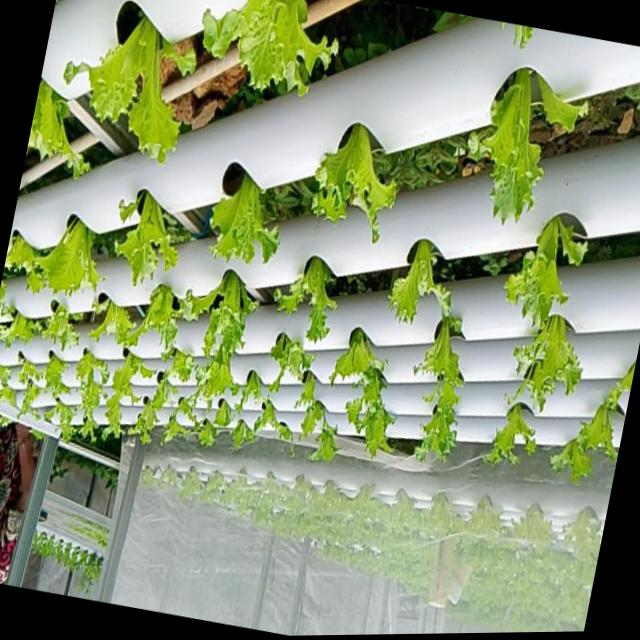Baby: (61, 19, 193, 165), (200, 0, 335, 96), (466, 67, 539, 222), (309, 122, 395, 242), (502, 213, 583, 325), (413, 306, 462, 458), (207, 162, 277, 262), (509, 312, 578, 409), (112, 189, 177, 284), (34, 218, 101, 299), (114, 283, 190, 354), (272, 254, 334, 341), (387, 237, 448, 321), (345, 367, 391, 455), (571, 384, 620, 457), (253, 331, 312, 390), (327, 326, 384, 382), (482, 400, 533, 462), (73, 349, 107, 435), (193, 344, 237, 405), (42, 402, 74, 441), (41, 355, 66, 399), (166, 350, 192, 382), (16, 380, 39, 416), (171, 395, 194, 424)
